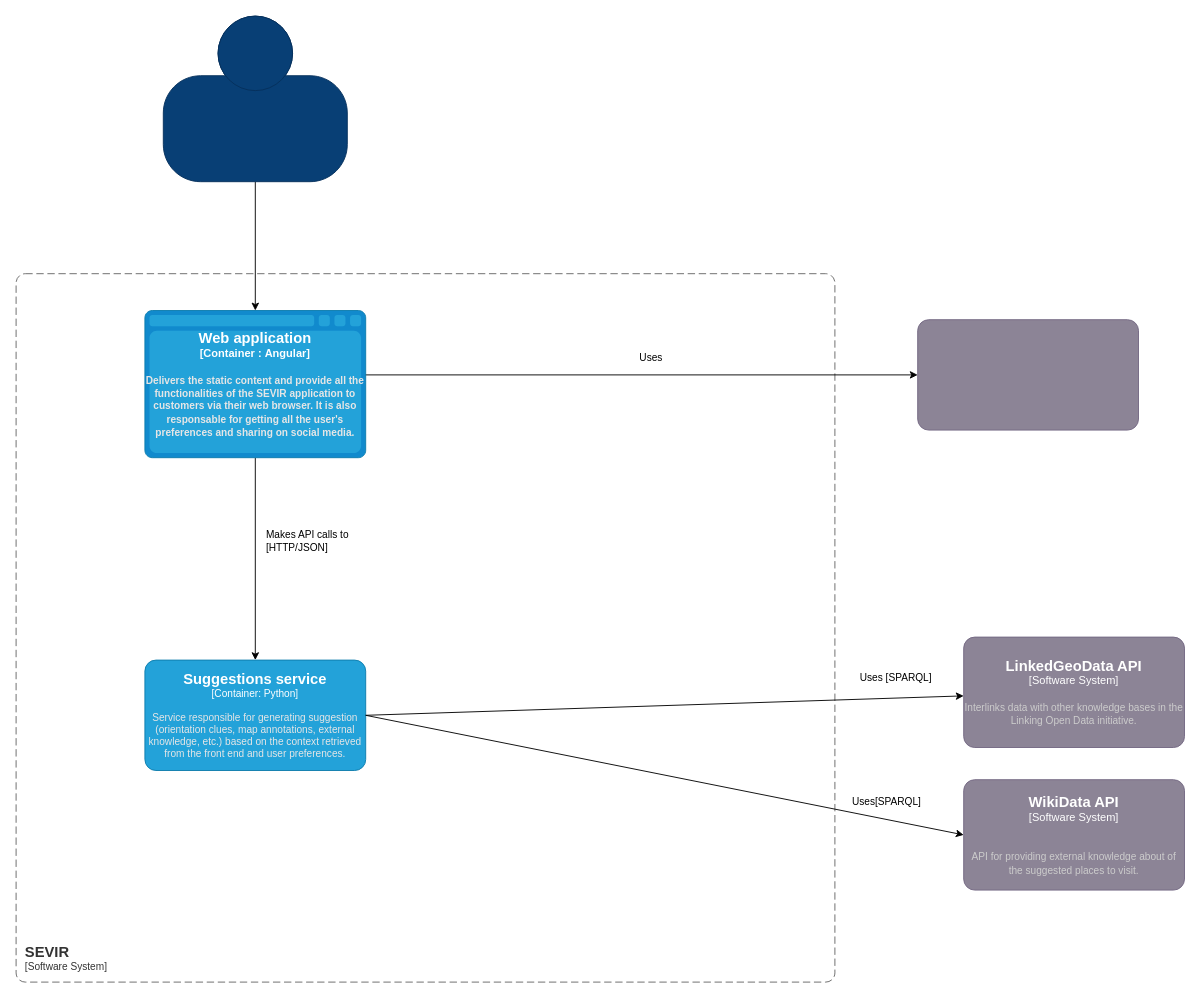
Some shapes in this 1201 by 998 pixel diagram are drawn without their labels. The shapes that lost their labels are listed below. From the top down, each one's centre as x and y in pixels, then its label:
At [254,98]: "User [Person]".
At [1027,374]: "GoogleMaps API [Software System] Distributed free geographic data for the world.".
